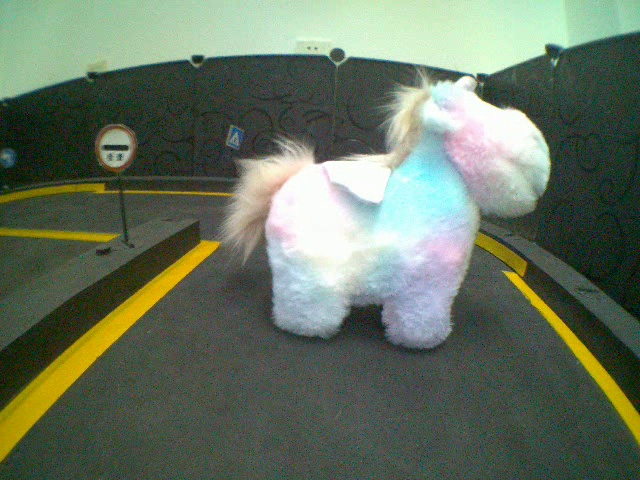unicorn: (193, 63, 555, 360)
